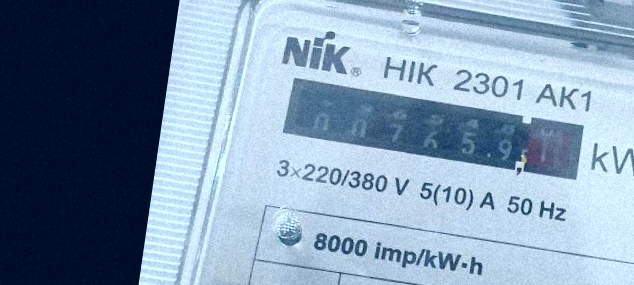0: (309, 107, 331, 135), (347, 113, 369, 141)
1: (534, 133, 553, 167)
5: (455, 127, 481, 157)
6: (419, 125, 442, 151)
7: (383, 120, 406, 147)
9: (492, 134, 514, 164)
screen: (269, 63, 597, 198)
